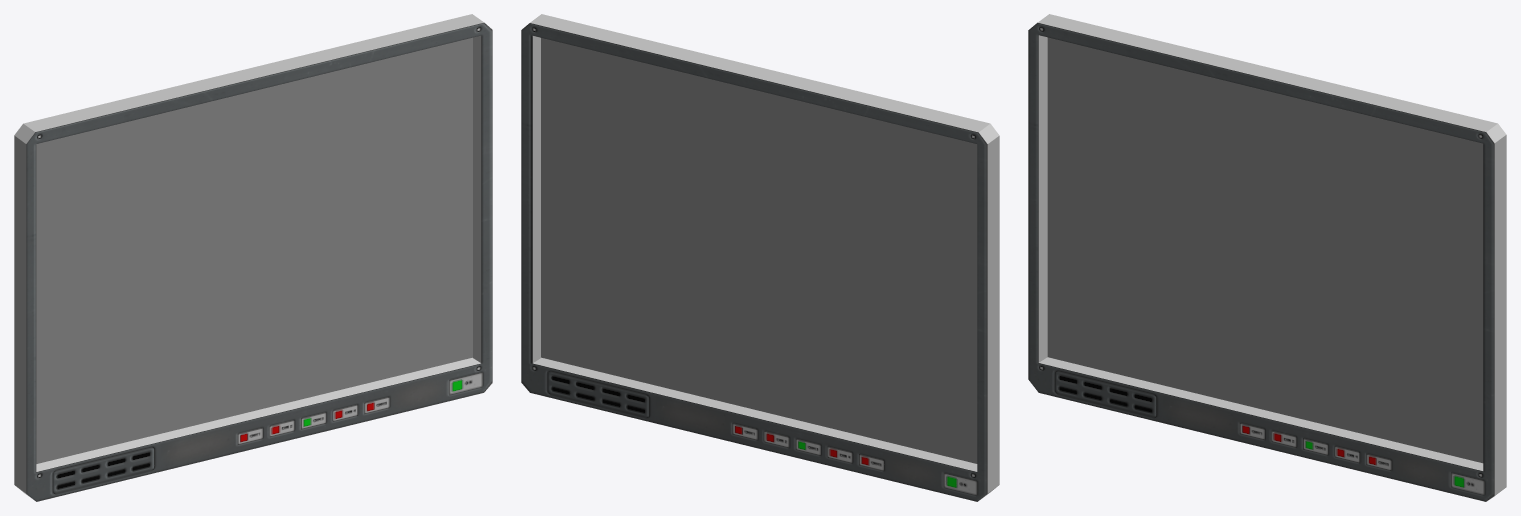
Rendered from TV_Monitor_02.FBX.
3 views of the same model, side by side, from view 1: azimuth 30°, elevation 25°; view 2: azimuth 150°, elevation 25°; view 3: azimuth 330°, elevation 25° (orthographic).
Visible parts, largest first — view 1: Screen, TV_Monitor_02; view 2: Screen, TV_Monitor_02; view 3: Screen, TV_Monitor_02.
Part boxes in pixels (x1,y1,x2,y2): Screen: (36, 37, 472, 463); TV_Monitor_02: (14, 14, 492, 501); Screen: (541, 38, 977, 463); TV_Monitor_02: (521, 14, 999, 501); Screen: (1047, 37, 1483, 463); TV_Monitor_02: (1028, 14, 1506, 501).
Size of the model in its own units: 47.05 by 35.67 by 2.1.
